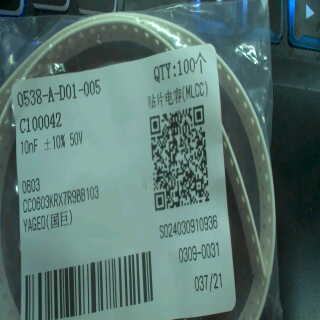10nF: (16, 134, 42, 159)
